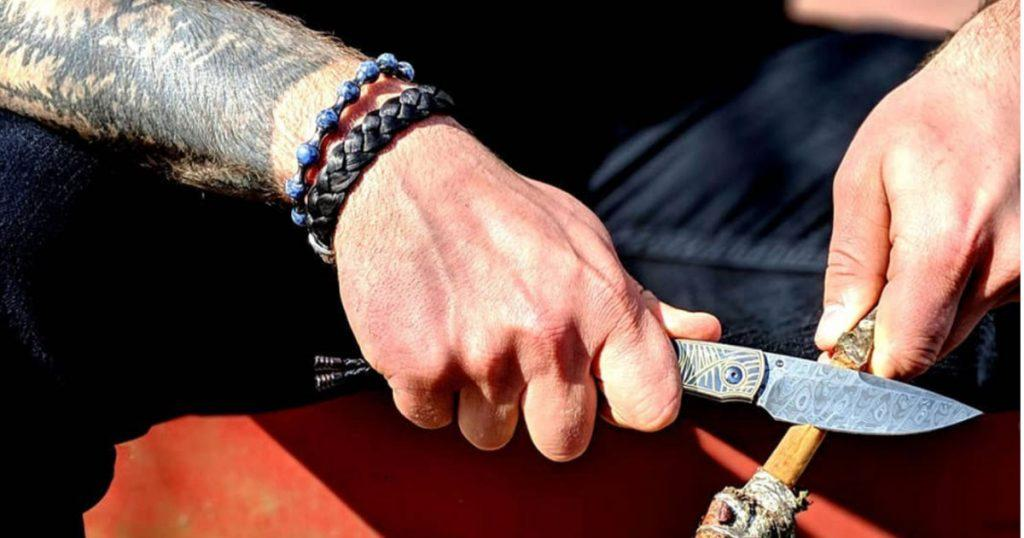Knife: (0, 0, 1024, 538), (337, 174, 685, 465), (678, 339, 984, 437)
